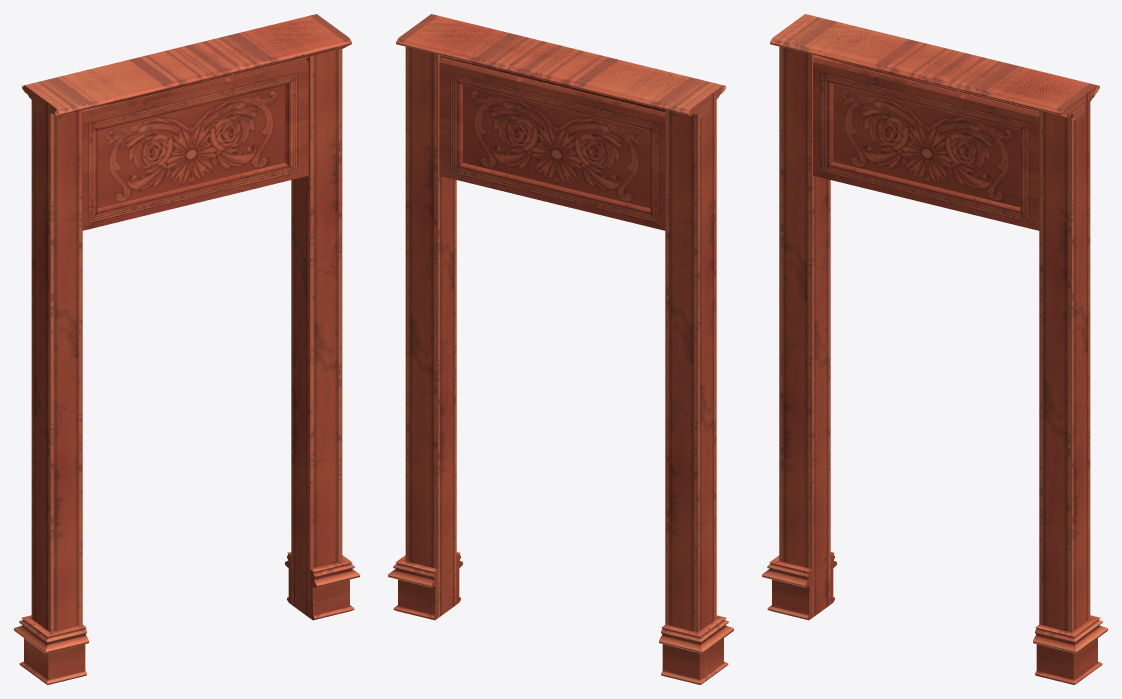
Rendered from MSH_DoorFrame_01.FBX.
3 renders of one model, left to right at view 1: azimuth 30°, elevation 25°; view 2: azimuth 150°, elevation 25°; view 3: azimuth 330°, elevation 25°, orthographic.
Parts seen in each view (by area): view 1: MSH_DoorFrame_01; view 2: MSH_DoorFrame_01; view 3: MSH_DoorFrame_01.
Part boxes in pixels (bbox=[...]): MSH_DoorFrame_01: bbox=[14, 14, 359, 684]; MSH_DoorFrame_01: bbox=[388, 14, 733, 684]; MSH_DoorFrame_01: bbox=[762, 14, 1107, 684].
Size of what is drawn, in the model's own units: 194 by 40 by 340.
